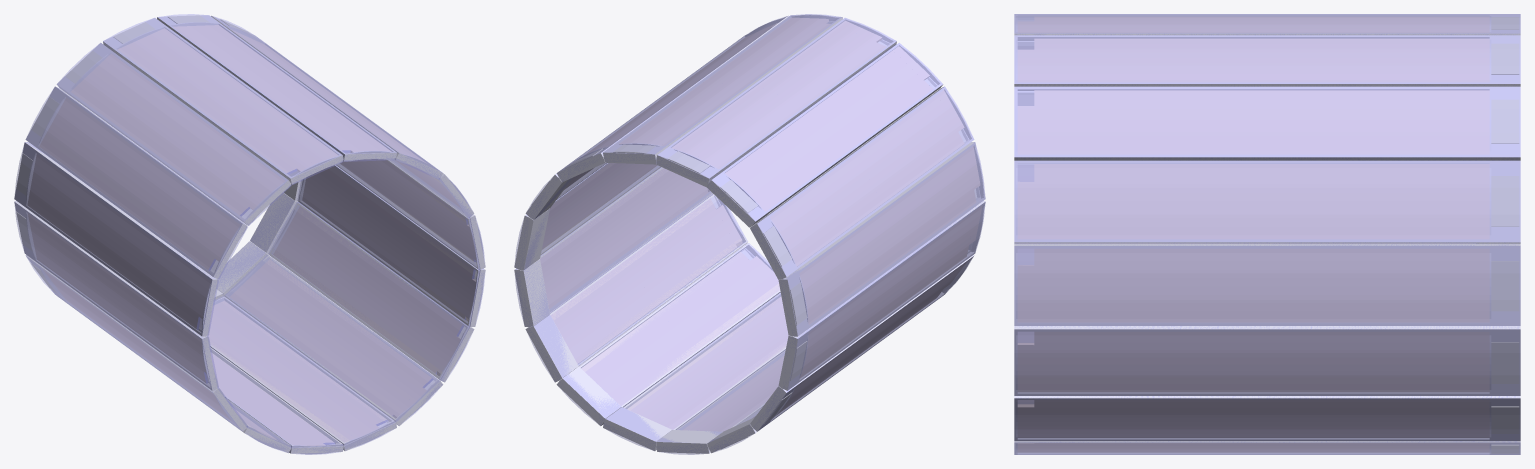
The model's file is Belle2Geo_TOP.gltf.
The picture shows the model from 3 angles, left to right: view 1: azimuth 30°, elevation 25°; view 2: azimuth 150°, elevation 25°; view 3: azimuth 270°, elevation 25°; orthographic projection. The views are drawn at different scales.
Parts seen in each view (by area): view 1: TOPOuterHoneycombPanel_11 (×8), TOPInnerHoneycombPanel_12 (×7), TOPEnvelopeModule07_7, TOPEnvelopeModule06_6, TOPEnvelopeModule15_15, TOPEnvelopeModule14_14, TOPEnvelopeModule08_8, TOPEnvelopeModule05_5, TOPEnvelopeModule16_16, TOPEnvelopeModule13_13, TOPEnvelopeModule09_9, TOPEnvelopeModule04_4 (+43 smaller); view 2: TOPOuterHoneycombPanel_11 (×8), TOPInnerHoneycombPanel_12 (×6), TOPEnvelopeModule07_7, TOPEnvelopeModule06_6, TOPEnvelopeModule15_15, TOPEnvelopeModule14_14, TOPEnvelopeModule08_8, TOPEnvelopeModule05_5, TOPEnvelopeModule16_16, TOPPrismEnclosureBackPlate_14 (×16), TOPEnvelopeModule13_13, TOPEnvelopeModule09_9 (+41 smaller); view 3: TOPOuterHoneycombPanel_11 (×8), TOPEnvelopeModule02_2, TOPEnvelopeModule01_1, TOPEnvelopeModule03_3, TOPEnvelopeModule16_16, TOPEnvelopeModule04_4, TOPEnvelopeModule15_15, TOPBarSegment2-16_3, TOPBarSegment1-16_4, TOPBarSegment2-17_3, TOPBarSegment1-17_4, TOPBarSegment2-11_3 (+30 smaller).
Boxes of the visible parts, x1,y1,x2,y2 form: TOPOuterHoneycombPanel_11 (×8): (26, 23, 437, 428); TOPInnerHoneycombPanel_12 (×7): (209, 160, 476, 445); TOPEnvelopeModule07_7: (26, 87, 247, 278); TOPEnvelopeModule06_6: (57, 43, 291, 225); TOPEnvelopeModule15_15: (250, 194, 473, 381); TOPEnvelopeModule14_14: (217, 242, 442, 424); TOPEnvelopeModule08_8: (14, 142, 218, 335); TOPEnvelopeModule05_5: (103, 18, 343, 184); TOPEnvelopeModule16_16: (297, 165, 484, 326); TOPEnvelopeModule13_13: (208, 294, 395, 450); TOPEnvelopeModule09_9: (14, 202, 218, 389); TOPEnvelopeModule04_4: (157, 14, 396, 161); TOPOuterHoneycombPanel_11 (×8): (572, 15, 983, 420); TOPInnerHoneycombPanel_12 (×6): (540, 163, 788, 431); TOPEnvelopeModule07_7: (752, 86, 973, 276); TOPEnvelopeModule06_6: (708, 43, 942, 223); TOPEnvelopeModule15_15: (527, 194, 747, 381); TOPEnvelopeModule14_14: (559, 243, 780, 424); TOPEnvelopeModule08_8: (781, 142, 985, 335); TOPEnvelopeModule05_5: (658, 18, 896, 182); TOPEnvelopeModule16_16: (515, 167, 711, 325); TOPPrismEnclosureBackPlate_14 (×16): (514, 152, 798, 453); TOPEnvelopeModule13_13: (604, 293, 788, 449); TOPEnvelopeModule09_9: (784, 202, 985, 389); TOPOuterHoneycombPanel_11 (×8): (1016, 14, 1490, 454); TOPEnvelopeModule02_2: (1014, 161, 1520, 243); TOPEnvelopeModule01_1: (1014, 244, 1520, 325); TOPEnvelopeModule03_3: (1014, 87, 1520, 160); TOPEnvelopeModule16_16: (1014, 326, 1520, 395); TOPEnvelopeModule04_4: (1014, 35, 1520, 86); TOPEnvelopeModule15_15: (1014, 396, 1520, 440); TOPBarSegment2-16_3: (1256, 164, 1477, 238); TOPBarSegment1-16_4: (1034, 164, 1255, 238); TOPBarSegment2-17_3: (1256, 249, 1477, 322); TOPBarSegment1-17_4: (1034, 249, 1255, 322); TOPBarSegment2-11_3: (1256, 90, 1477, 154).
Bounding box in the file's own units: 249 × 249 × 286.
